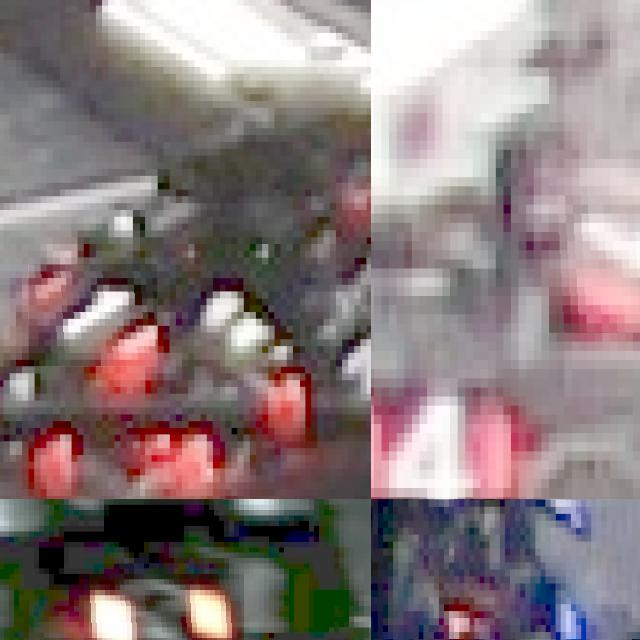R1: (29, 264, 157, 366)
R4: (371, 369, 511, 499), (549, 186, 640, 332)
Rs: (84, 573, 244, 640)
